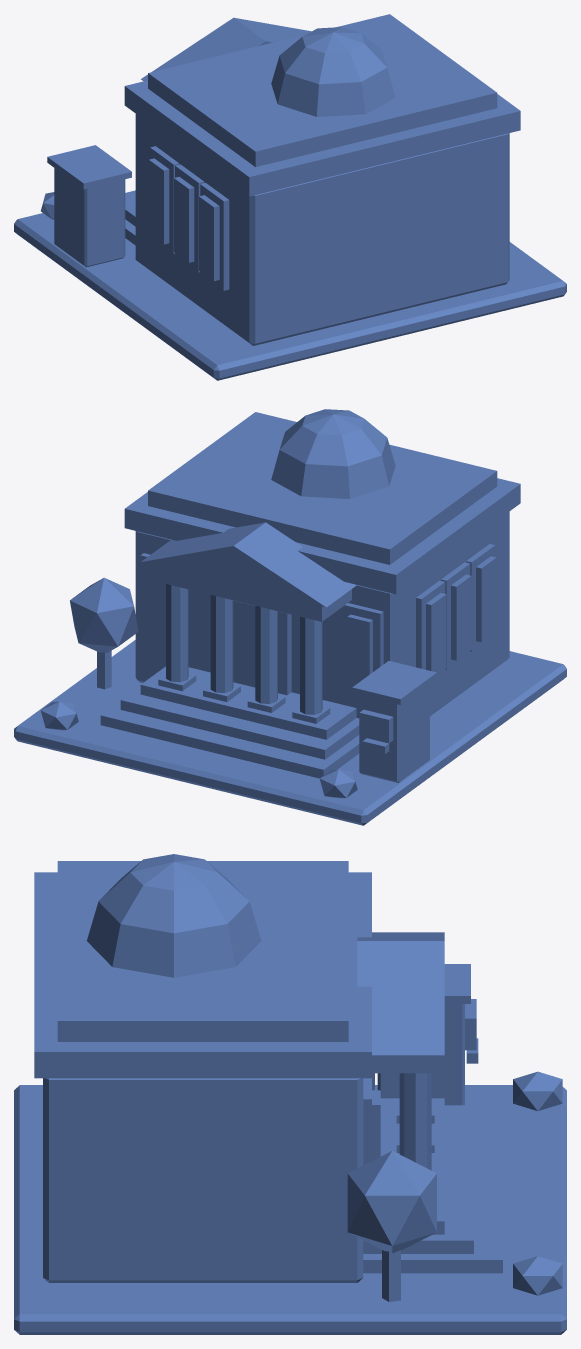
3 renders of one model, top to bottom at view 1: azimuth 30°, elevation 25°; view 2: azimuth 150°, elevation 25°; view 3: azimuth 270°, elevation 25°, orthographic. The views are drawn at different scales.
Visible parts, largest first — view 1: corpo; view 2: corpo; view 3: corpo.
Boxes of the visible parts, bbox=[...] form: corpo: bbox=[14, 14, 566, 380]; corpo: bbox=[14, 409, 566, 825]; corpo: bbox=[14, 854, 566, 1334].
Bounding box in the file's own units: 1.91 × 1.36 × 1.9.
